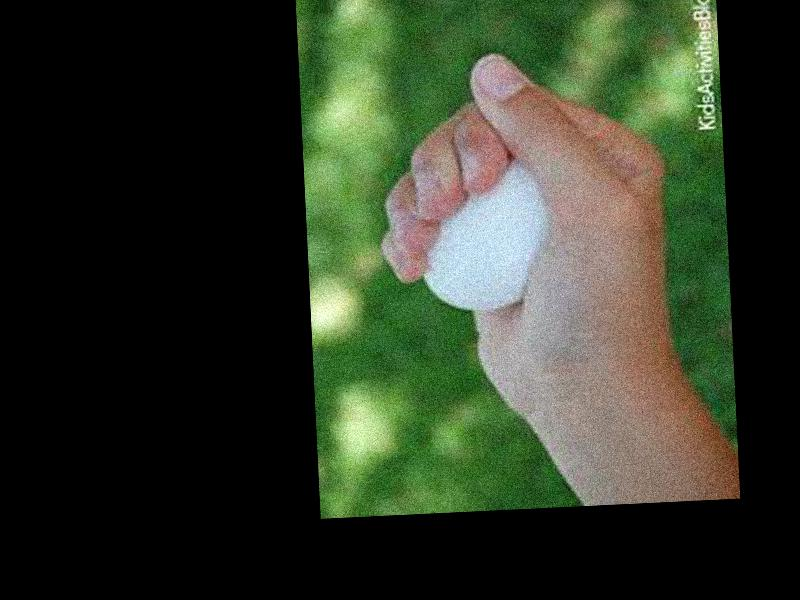Eggs: (418, 157, 545, 313)
